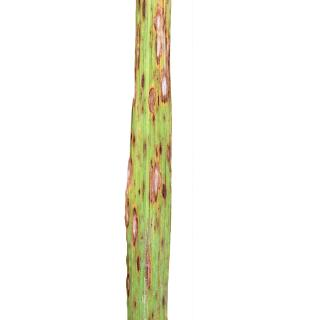Blast: (147, 2, 175, 117), (121, 197, 144, 250), (148, 153, 166, 204), (123, 156, 137, 192), (145, 88, 157, 122)
